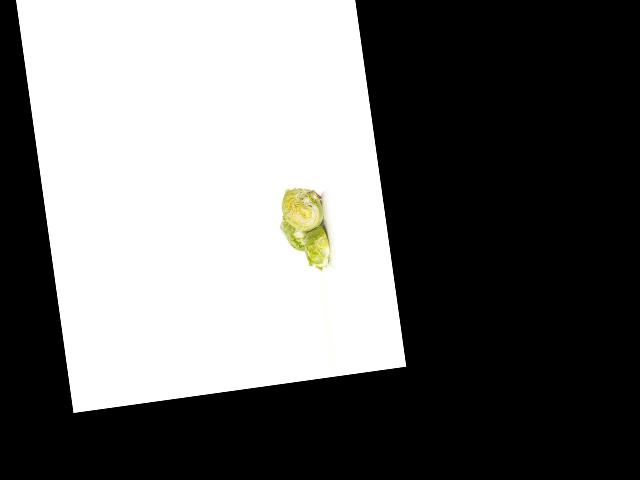lettuce: (277, 208, 313, 258)
